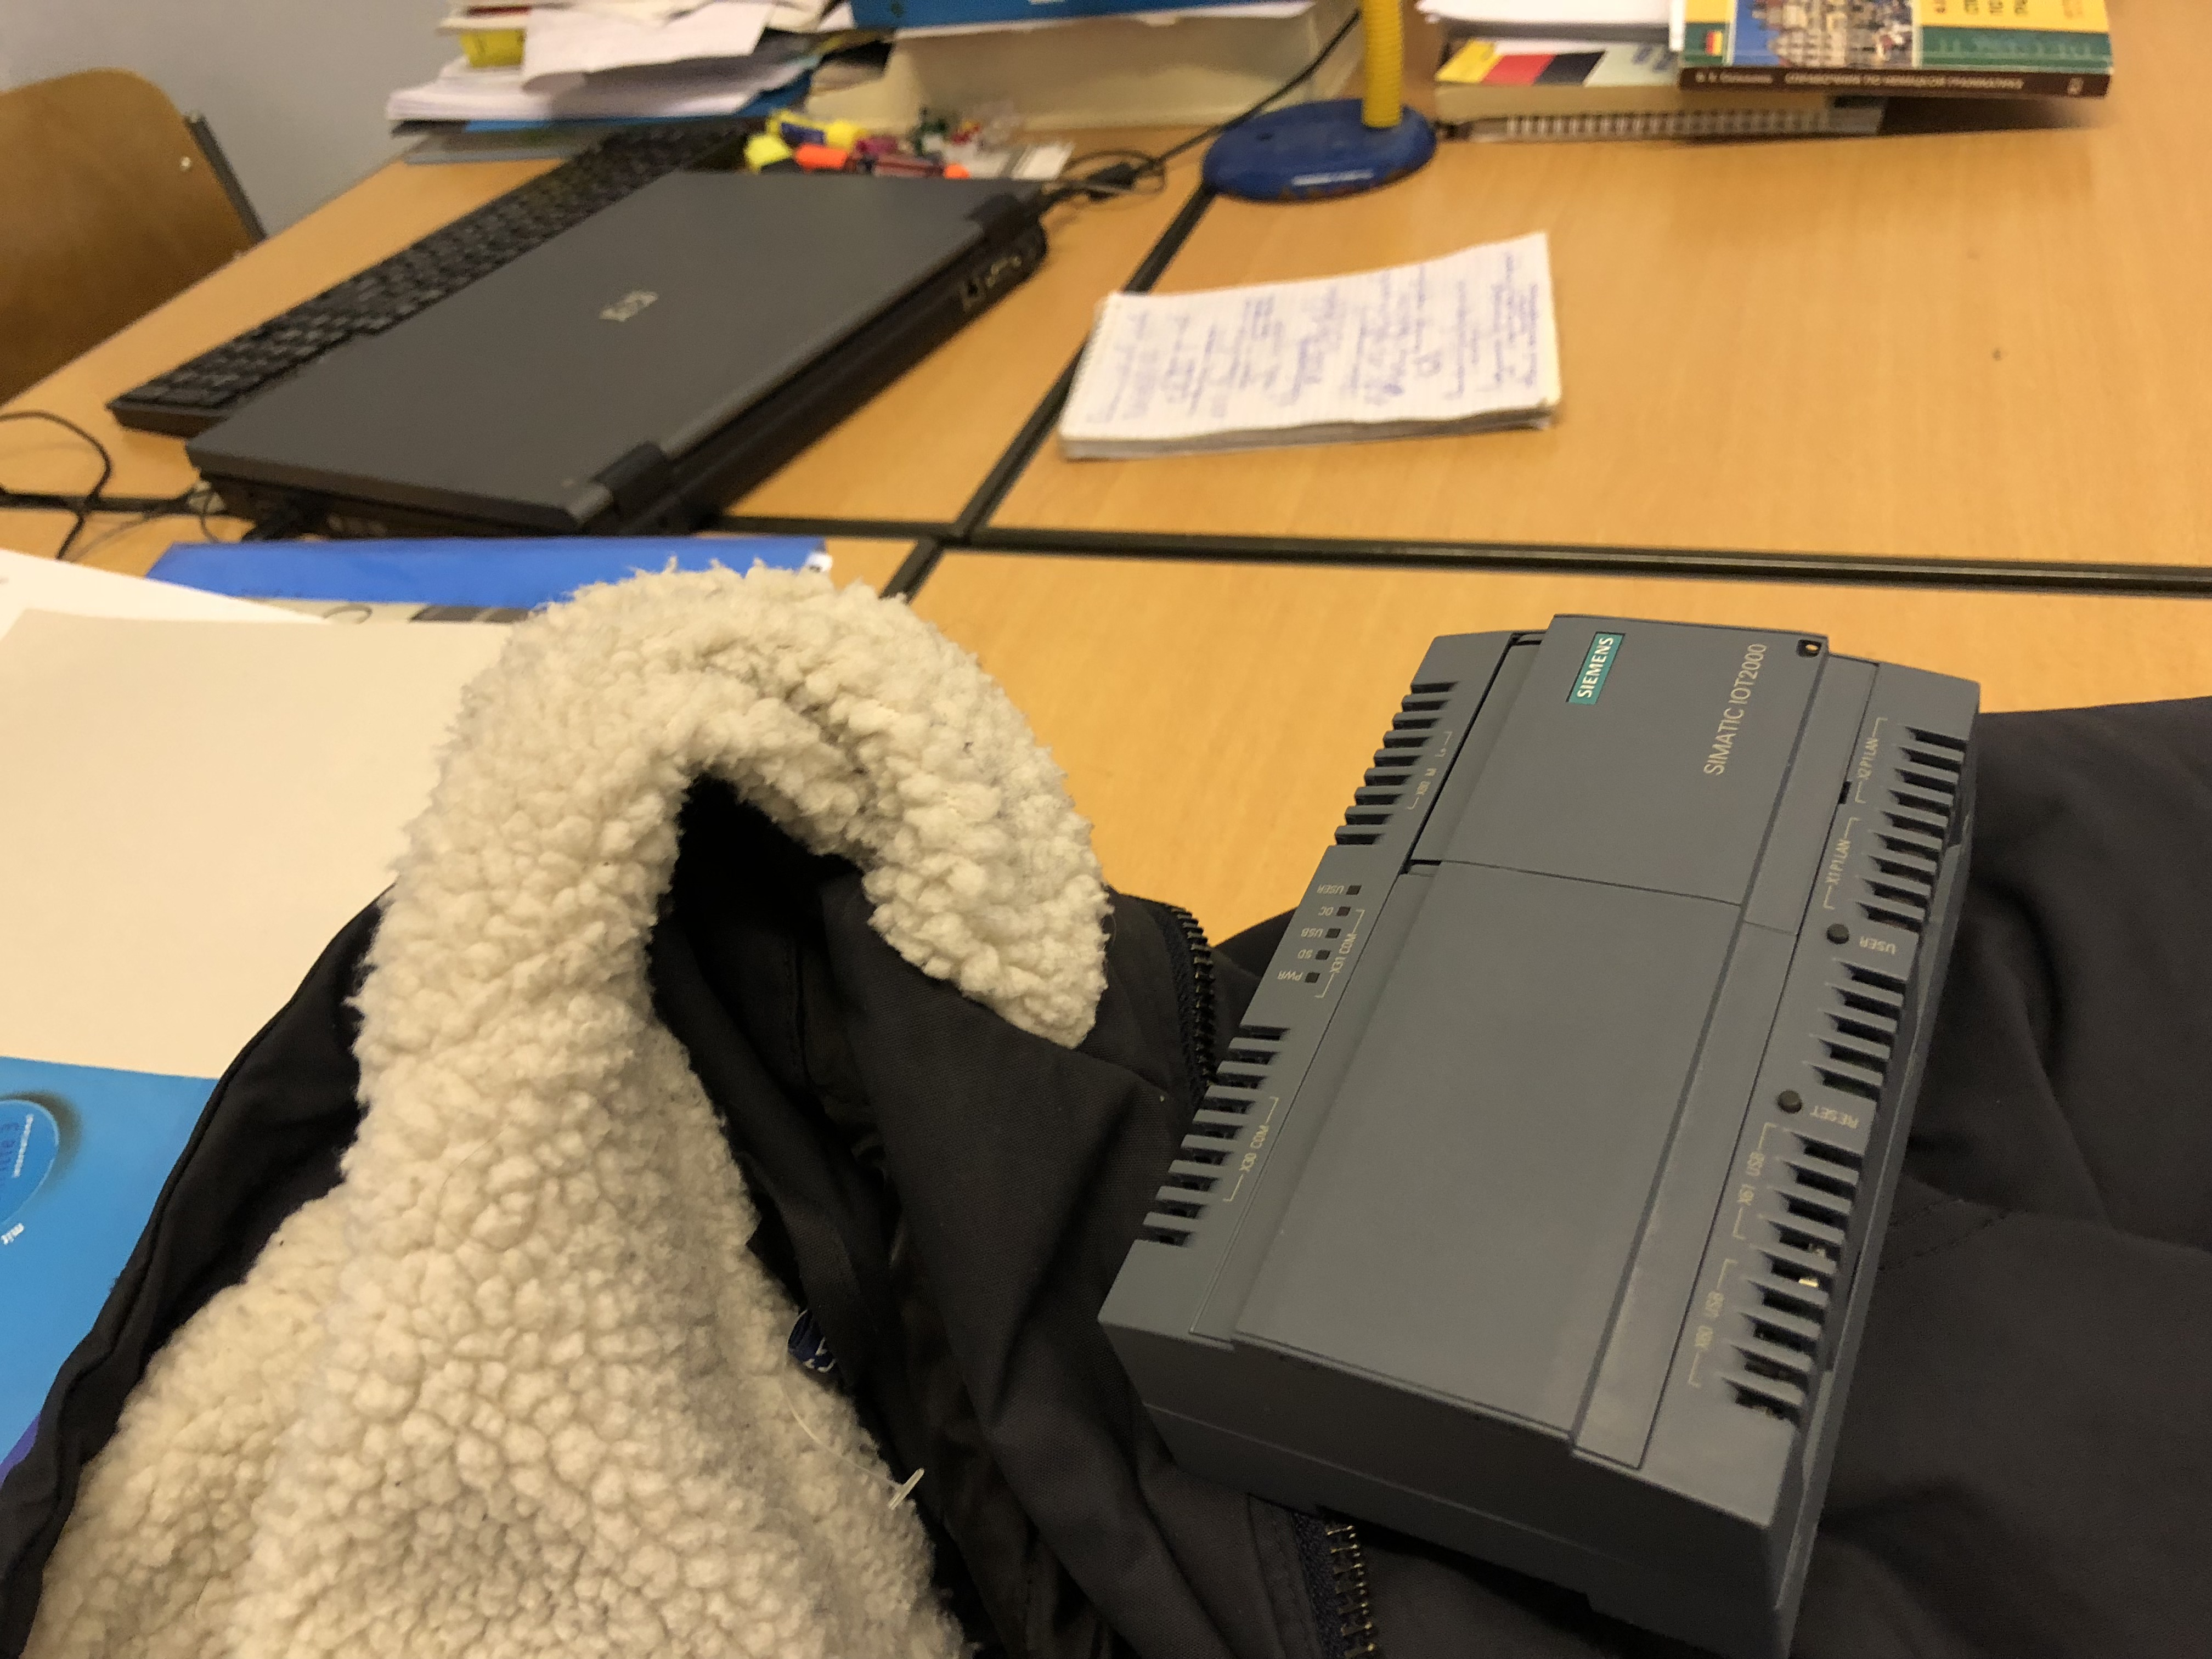device: (1096, 612, 1980, 1659)
